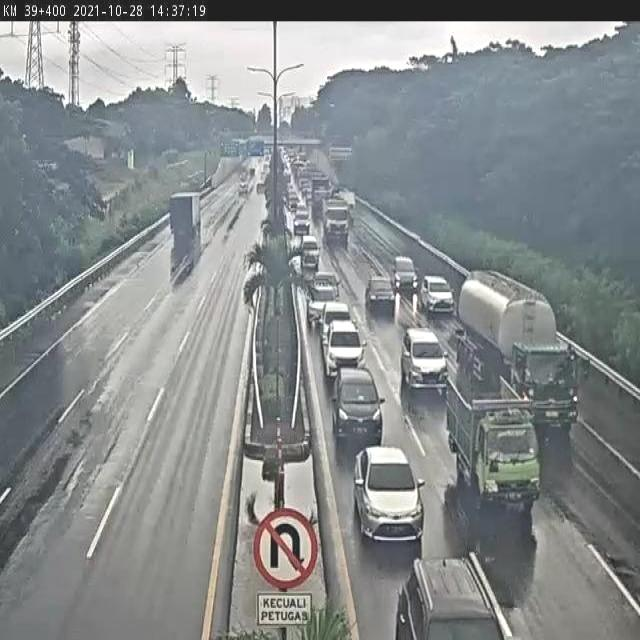Car: (396, 538, 507, 640), (346, 442, 439, 546), (327, 362, 382, 438), (399, 320, 447, 398), (318, 320, 364, 375), (365, 269, 400, 321), (387, 255, 424, 298), (423, 270, 456, 316), (301, 234, 324, 269)
Truck: (458, 256, 586, 434), (441, 338, 548, 508), (169, 195, 209, 250), (318, 193, 353, 250)
